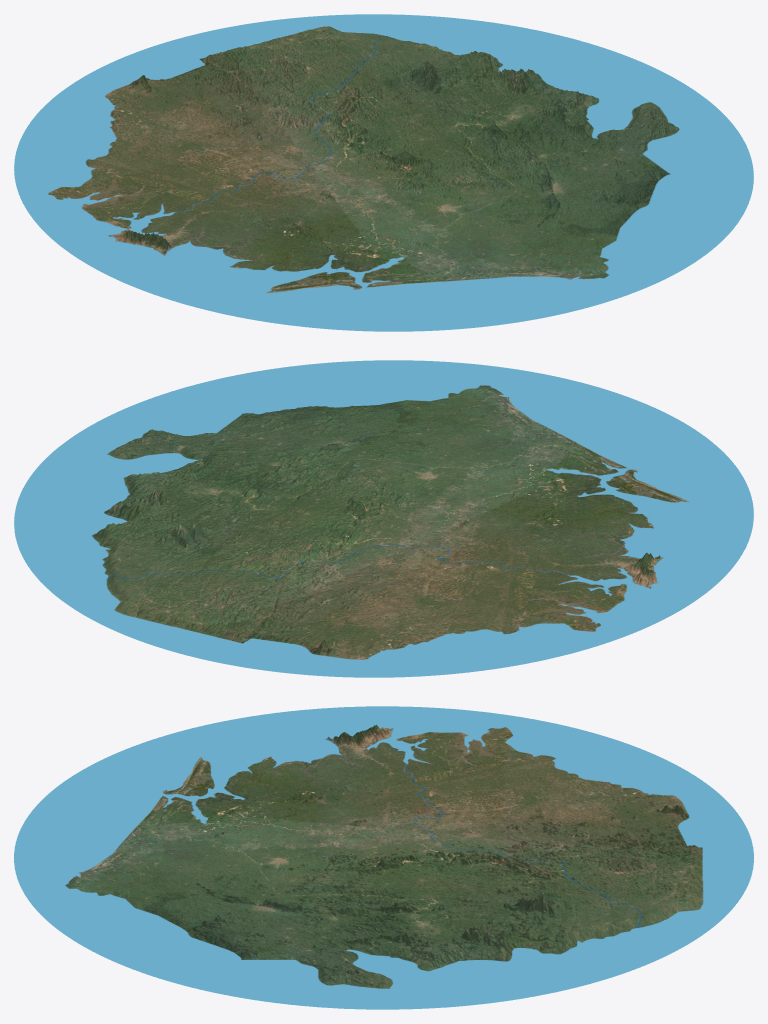
File: SLE-previa-terrain.glb
The picture shows the model from 3 angles, top to bottom: view 1: azimuth 30°, elevation 25°; view 2: azimuth 150°, elevation 25°; view 3: azimuth 270°, elevation 25°; orthographic projection. The views are drawn at different scales.
Visible parts, largest first — view 1: Serra Leoa; view 2: Serra Leoa; view 3: Serra Leoa.
Boxes of the visible parts, bbox=[...] form: Serra Leoa: bbox=[14, 14, 753, 331]; Serra Leoa: bbox=[14, 360, 753, 677]; Serra Leoa: bbox=[14, 706, 753, 1009].
Bounding box in the file's own units: 1.98 × 0.0735 × 2.04.
Materials: 1 (1 with a texture image).
